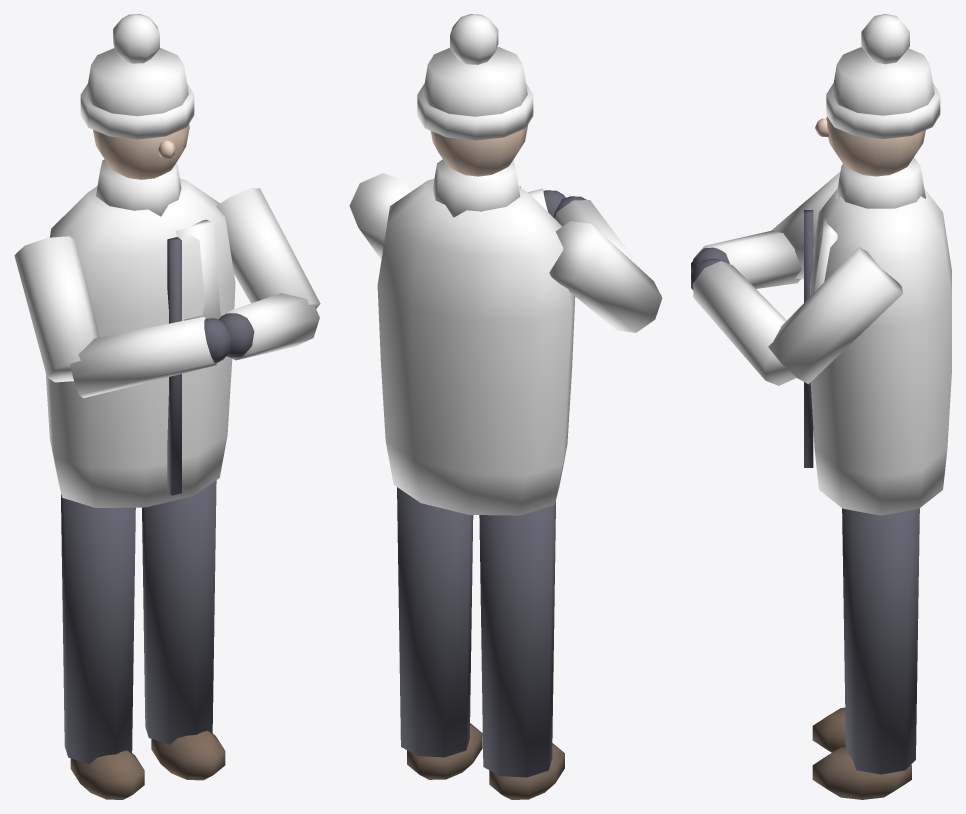
The model's file is spectator_clap.glb.
3 renders of one model, left to right at view 1: azimuth 30°, elevation 25°; view 2: azimuth 150°, elevation 25°; view 3: azimuth 270°, elevation 25°, orthographic. The views are drawn at different scales.
Visible parts, largest first — view 1: spectator_clap; view 2: spectator_clap; view 3: spectator_clap.
Boxes of the visible parts, x1,y1,x2,y2 form: spectator_clap: (14, 14, 320, 799); spectator_clap: (349, 14, 662, 799); spectator_clap: (691, 14, 951, 799).
Bounding box in the file's own units: 0.6615 × 1.8 × 0.5597.
